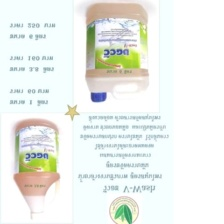cleaning_solution: (81, 0, 152, 105), (9, 117, 63, 222)
